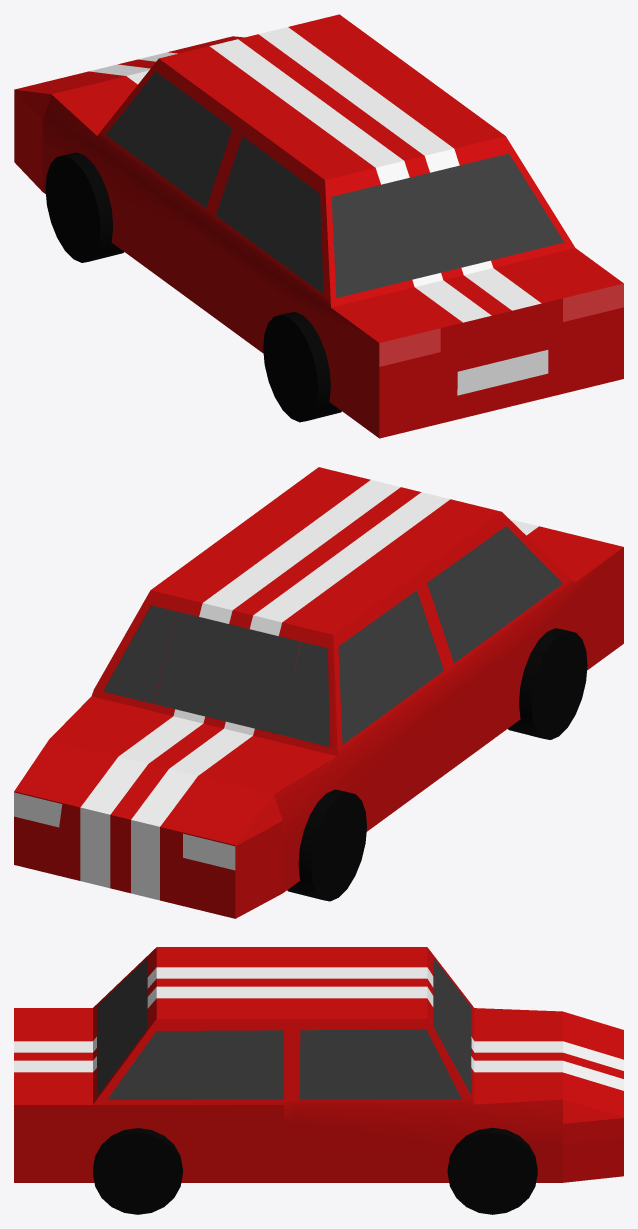
File: carRedStripe.fbx
3 views of the same model, one above another, from view 1: azimuth 30°, elevation 25°; view 2: azimuth 150°, elevation 25°; view 3: azimuth 270°, elevation 25° (orthographic). The views are drawn at different scales.
Visible parts, largest first — view 1: pasted__pCube1, pasted__pasted__pCylinder1, pasted__pCylinder1; view 2: pasted__pCube1, pasted__pCylinder1, pasted__pasted__pCylinder1; view 3: pasted__pCube1, pasted__pasted__pasted__pCylinder1, pasted__pasted__pasted__pasted__pCylinder1.
Part boxes in pixels (x1,y1,x2,y2): pasted__pCube1: (14,14,623,438); pasted__pasted__pCylinder1: (45,152,123,262); pasted__pCylinder1: (263,312,341,422); pasted__pCube1: (14,467,623,918); pasted__pCylinder1: (508,628,587,739); pasted__pasted__pCylinder1: (287,789,366,901); pasted__pCube1: (14,947,623,1182); pasted__pasted__pasted__pCylinder1: (447,1127,537,1214); pasted__pasted__pasted__pasted__pCylinder1: (93,1128,182,1214).
Size of the model in its own units: 4.3 by 3.32 by 10.29.
